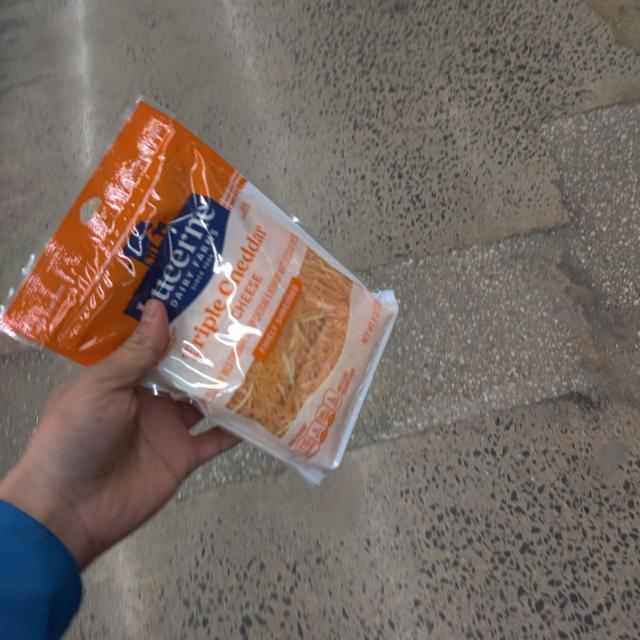Cheese: (37, 113, 433, 503)
